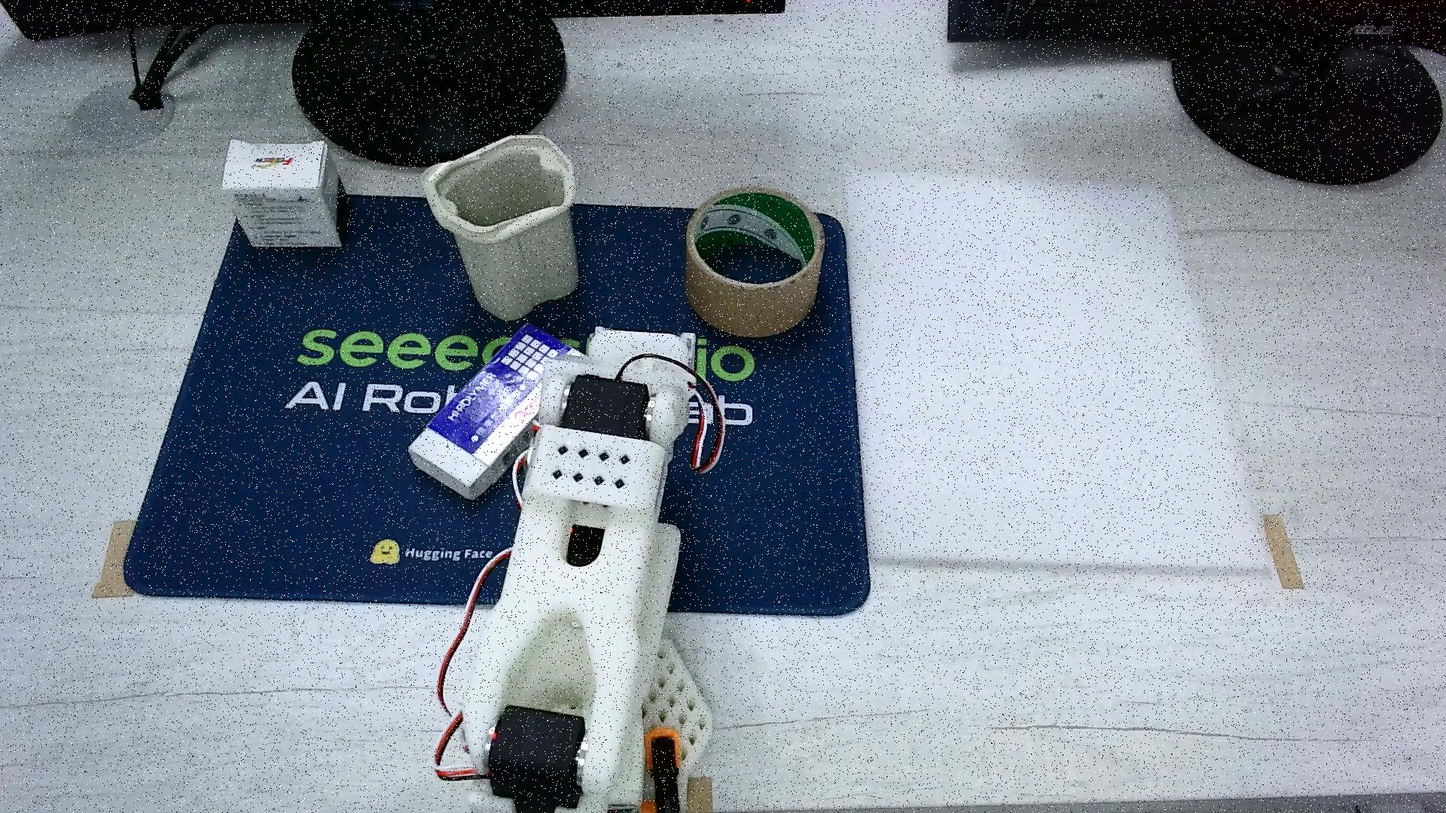eraser: (221, 139, 349, 247)
